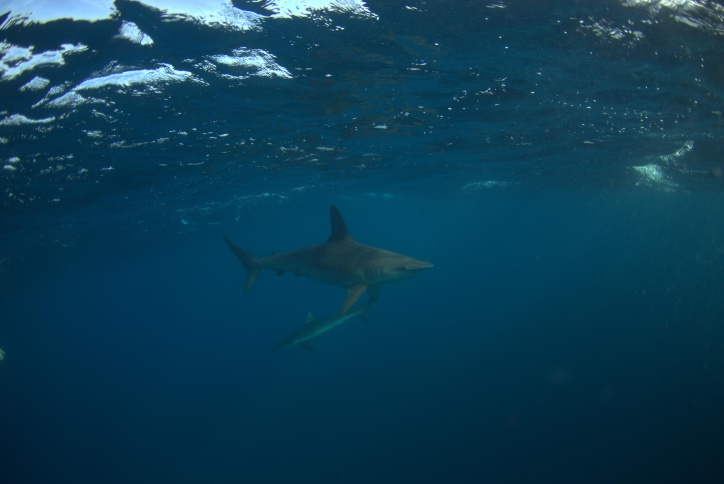Sedoso: (255, 295, 371, 359)
